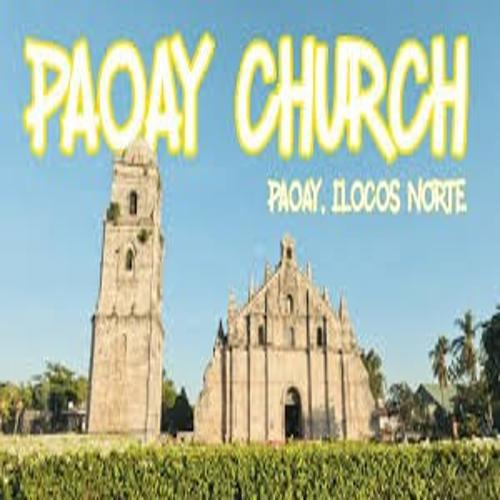Paoay Church: (83, 133, 390, 450)
